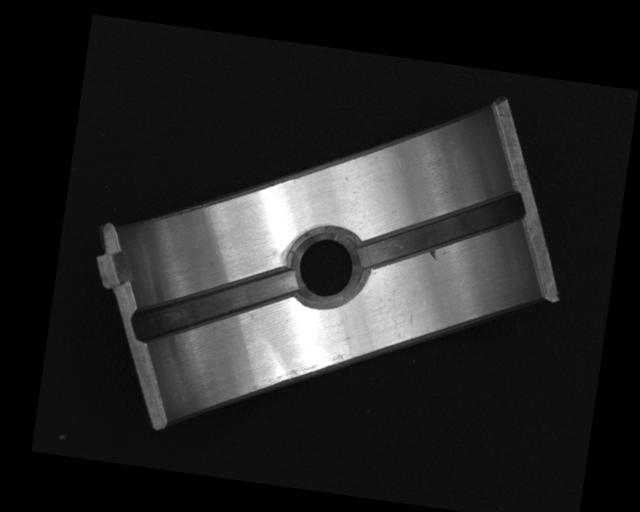bruise: (426, 249, 438, 261)
gap: (358, 172, 525, 289), (131, 249, 300, 361)
hole: (287, 225, 366, 311)
